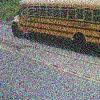buses: (10, 0, 100, 52)
